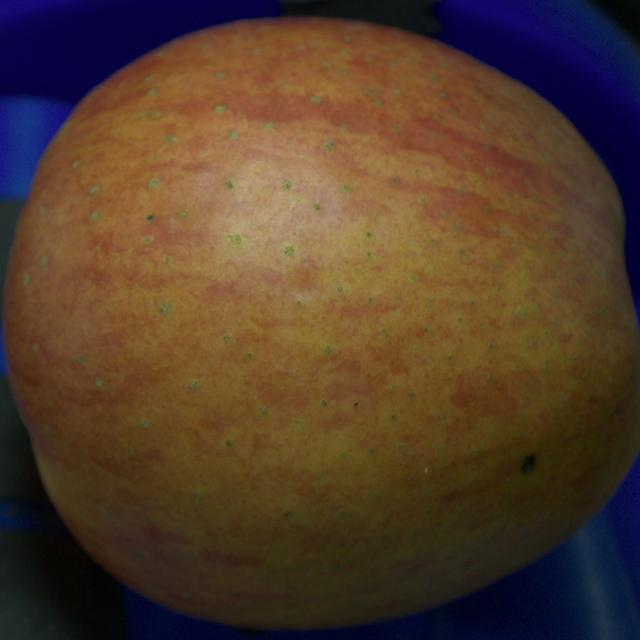apple: (2, 18, 639, 628)
pest: (521, 454, 536, 473)
